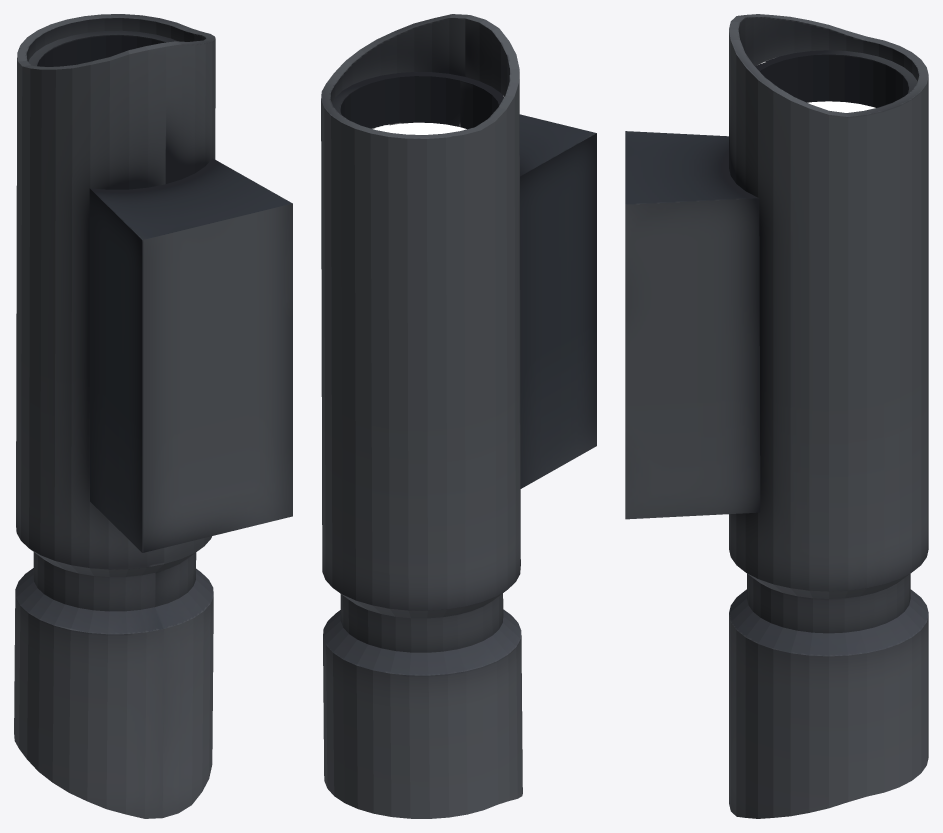
The model's file is StaticLight.fbx.
3 renders of one model, left to right at view 1: azimuth 30°, elevation 25°; view 2: azimuth 150°, elevation 25°; view 3: azimuth 270°, elevation 25°, orthographic.
Parts seen in each view (by area): view 1: Cube.021; view 2: Cube.021; view 3: Cube.021.
Boxes of the visible parts, x1,y1,x2,y2 form: Cube.021: (14, 14, 292, 818); Cube.021: (321, 14, 596, 818); Cube.021: (625, 14, 928, 818).
Size of the model in its own units: 12.67 by 53.2 by 18.89.
Materials: 1 (1 with a texture image).
